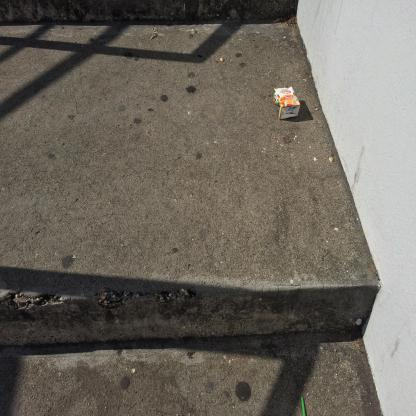karton: (273, 87, 301, 121)
plastik: (301, 396, 308, 416)
